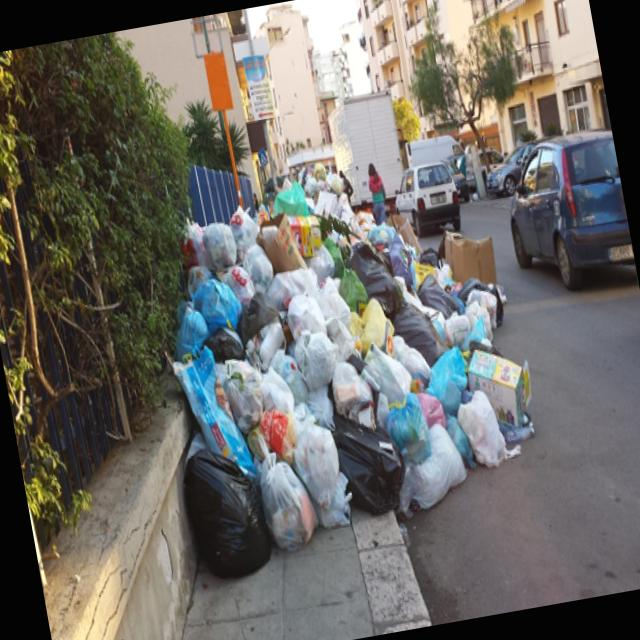garbage: (128, 132, 534, 590)
